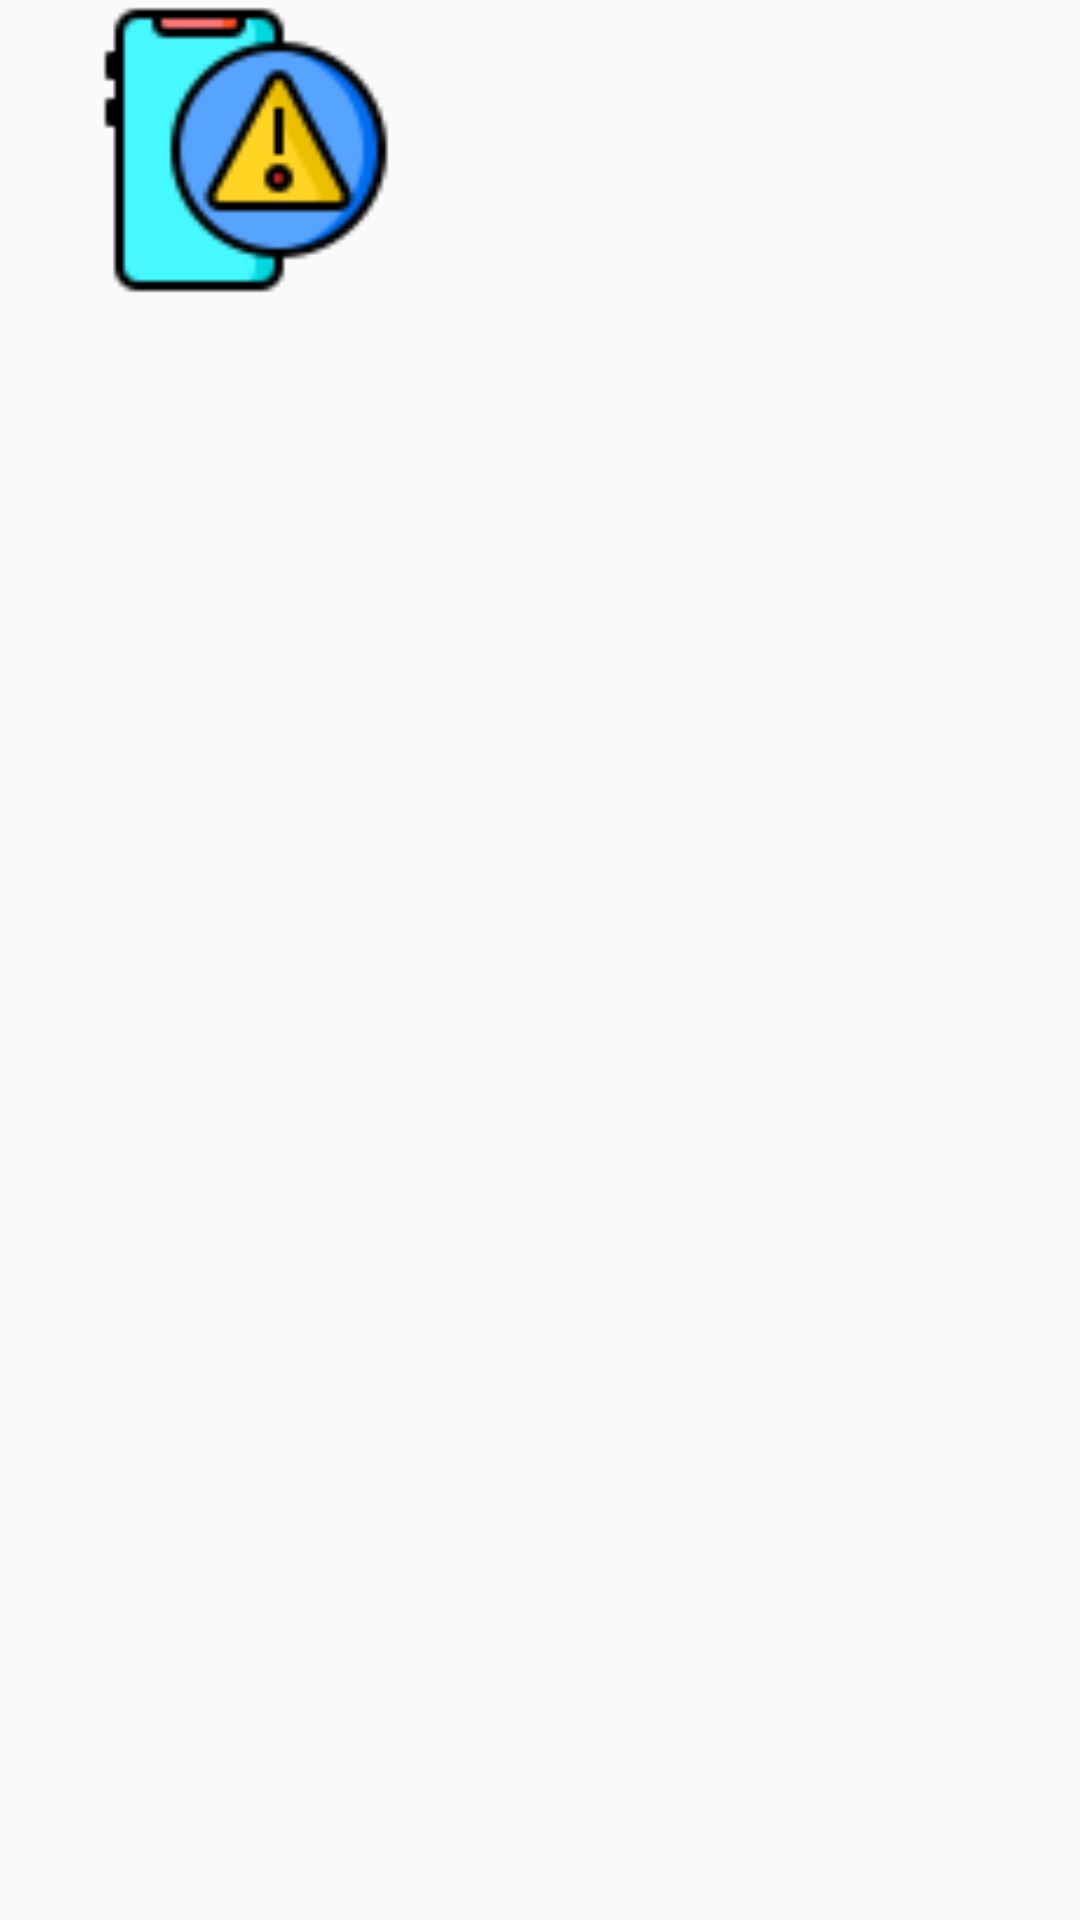

Screen size 1080px×1920px. Icon name, then its center in pixels as point (x, y):
alert: point (246, 150)
